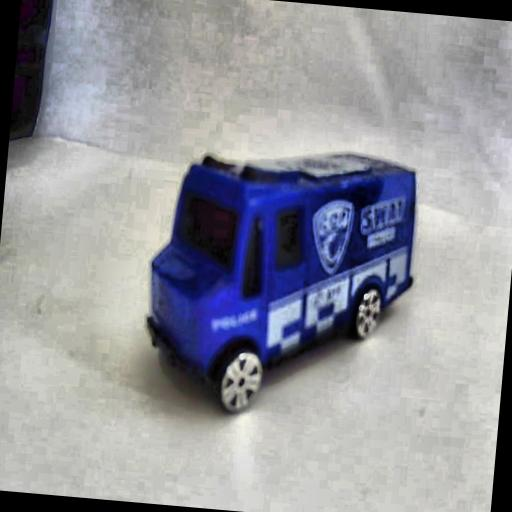police car: (136, 129, 430, 436)
